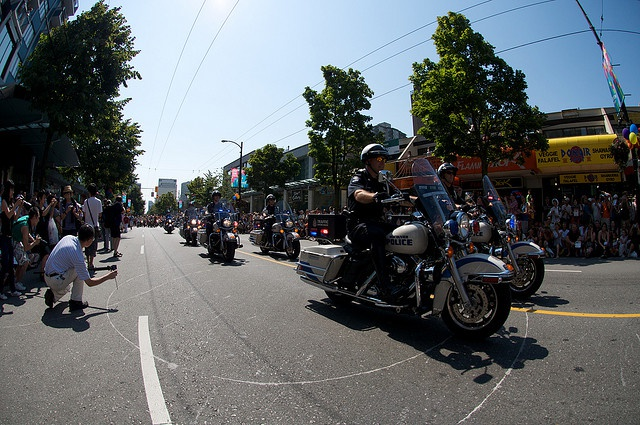non-vehicle: (293, 159, 515, 339), (470, 175, 544, 305), (249, 199, 301, 262), (206, 197, 241, 263), (190, 220, 207, 246), (163, 215, 174, 233)
